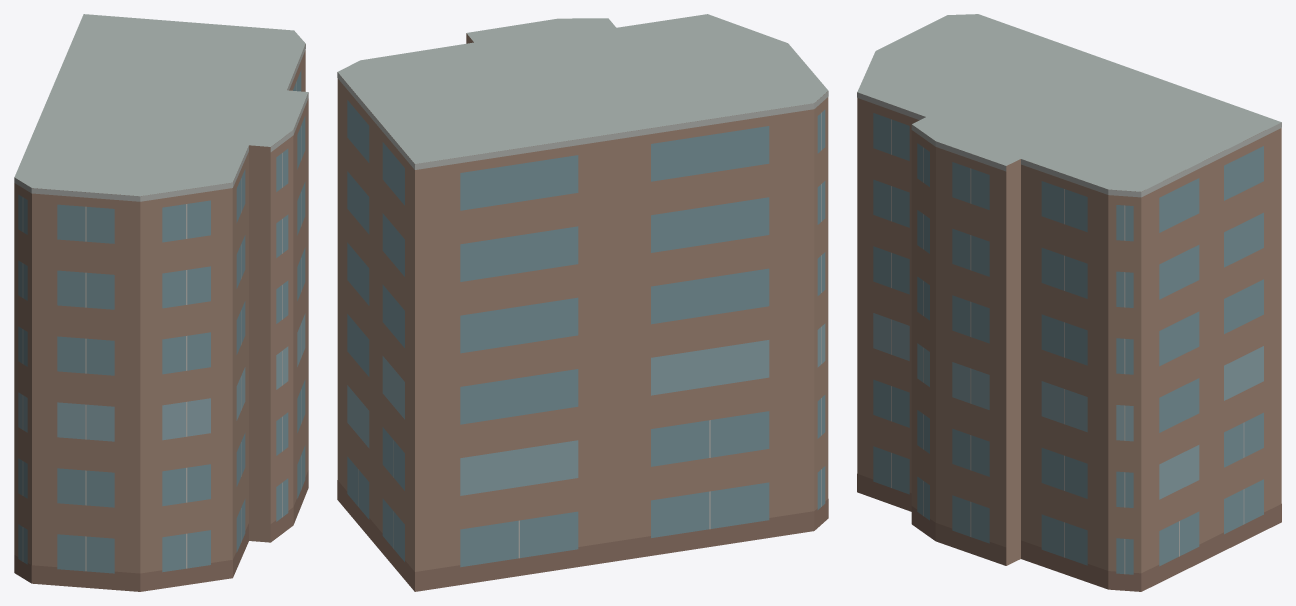
The model's file is survey-upis-32949837.glb.
3 views of the same model, side by side, from view 1: azimuth 30°, elevation 25°; view 2: azimuth 150°, elevation 25°; view 3: azimuth 270°, elevation 25° (orthographic). The views are drawn at different scales.
Visible parts, largest first — view 1: survey-upis-32949837.tmp; view 2: survey-upis-32949837.tmp; view 3: survey-upis-32949837.tmp.
Part boxes in pixels (x1=…): survey-upis-32949837.tmp: x1=14, y1=14, x2=308, y2=591; survey-upis-32949837.tmp: x1=337, y1=14, x2=828, y2=591; survey-upis-32949837.tmp: x1=857, y1=14, x2=1281, y2=591.
Size of the model in its own units: 16.69 by 17.5 by 16.84.
